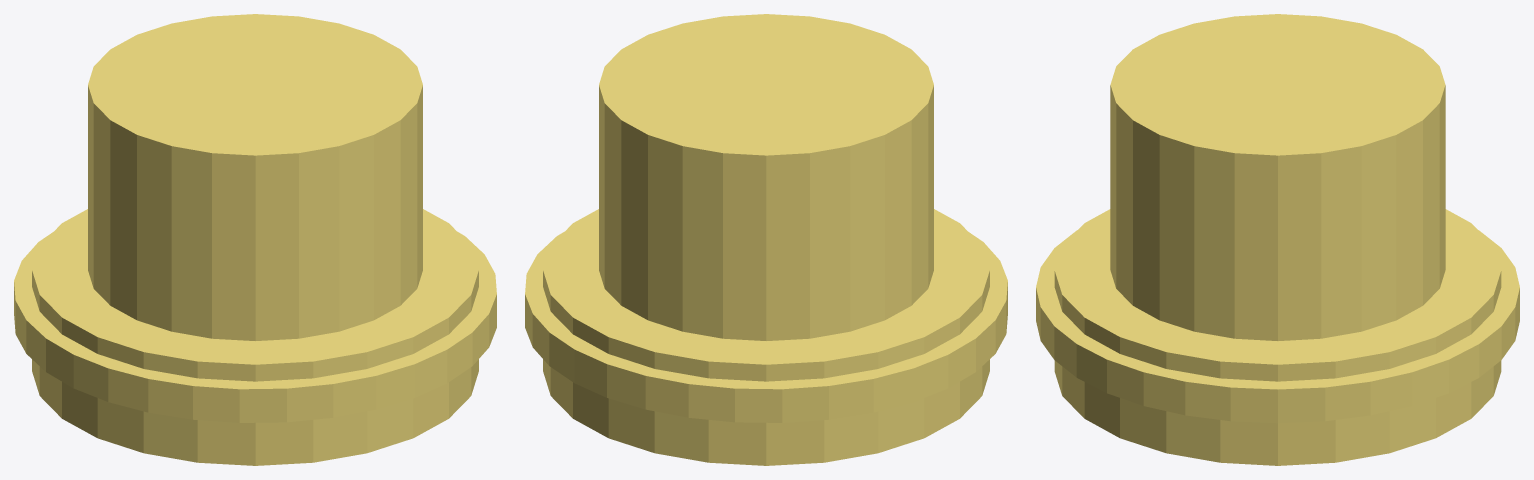
The model's file is 7_Drain_Plug_M18_Detail_D.glb.
3 views of the same model, side by side, from view 1: azimuth 30°, elevation 25°; view 2: azimuth 150°, elevation 25°; view 3: azimuth 270°, elevation 25° (orthographic).
Visible parts, largest first — view 1: geometry_0; view 2: geometry_0; view 3: geometry_0.
Part boxes in pixels (x1=…): geometry_0: x1=14, y1=14, x2=496, y2=465; geometry_0: x1=525, y1=14, x2=1007, y2=465; geometry_0: x1=1036, y1=14, x2=1519, y2=465.
Bounding box in the file's own units: 0.026 × 0.017 × 0.026.
